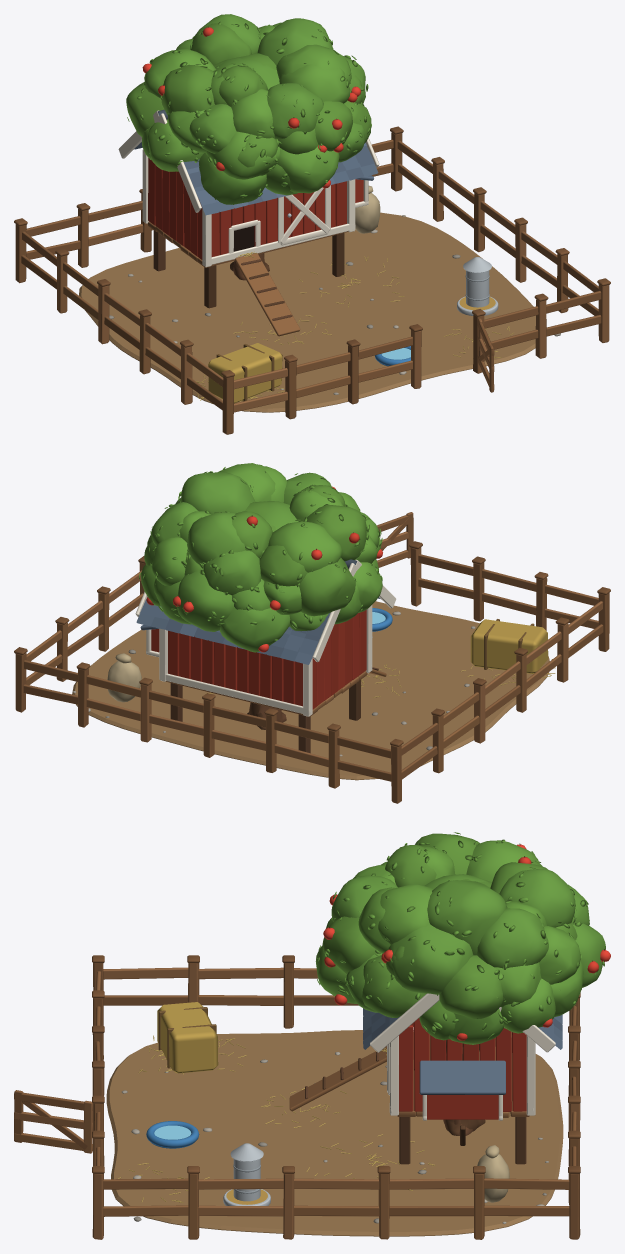
The model's file is farm.glb.
3 views of the same model, one above another, from view 1: azimuth 30°, elevation 25°; view 2: azimuth 150°, elevation 25°; view 3: azimuth 270°, elevation 25° (orthographic). The views are drawn at different scales.
Parts seen in each view (by area): view 1: coop, apple_tree_b, apple_tree; view 2: coop, apple_tree, apple_tree_b; view 3: coop, apple_tree, apple_tree_b.
Boxes of the visible parts, bbox=[...] form: coop: bbox=[14, 109, 610, 434]; apple_tree_b: bbox=[126, 23, 371, 280]; apple_tree: bbox=[142, 14, 364, 271]; coop: bbox=[14, 512, 610, 803]; apple_tree: bbox=[139, 463, 382, 729]; apple_tree_b: bbox=[144, 463, 382, 726]; coop: bbox=[14, 955, 580, 1239]; apple_tree: bbox=[326, 839, 610, 1135]; apple_tree_b: bbox=[315, 832, 583, 1135].
Size of what is drawn, in the model's own units: 3.44 by 2.05 by 4.01.
